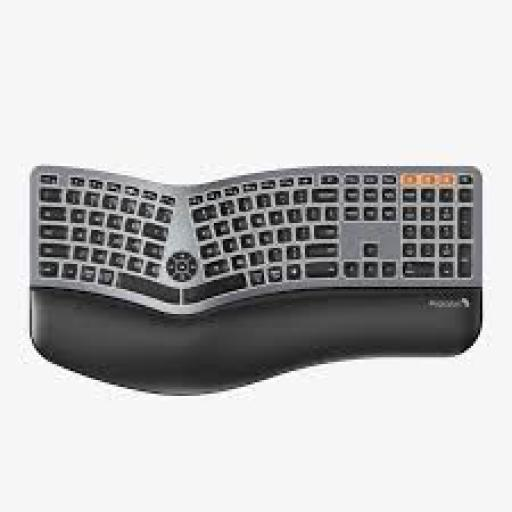KEYBOARD-2: (30, 166, 480, 391)
